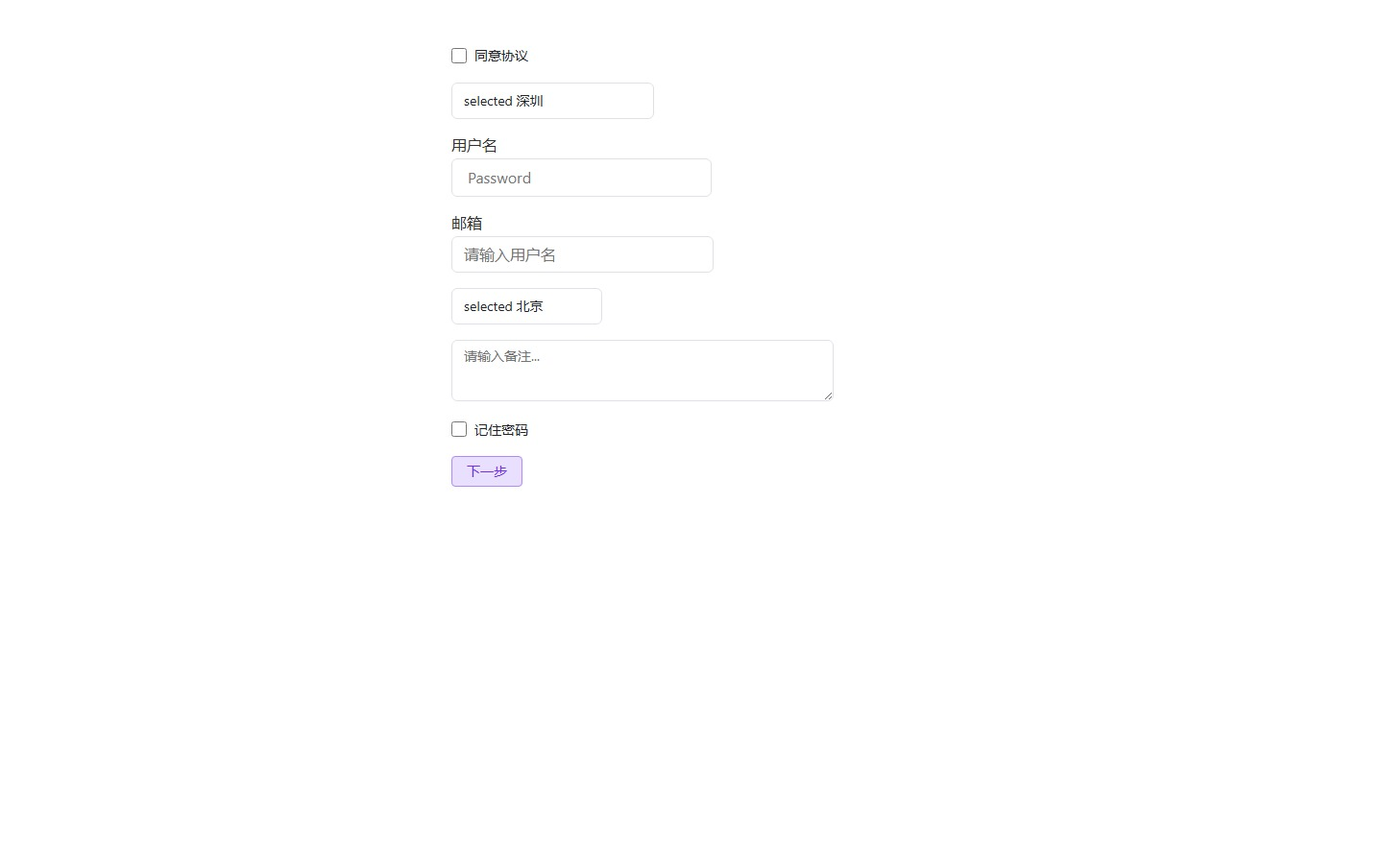button: (451, 456, 522, 487)
checkbox: (451, 421, 467, 437), (451, 48, 467, 63)
icon: (474, 46, 528, 64), (474, 420, 528, 438)
input: (451, 158, 712, 196), (451, 236, 714, 272)
radio: (451, 46, 528, 64), (451, 420, 528, 438)
select: (451, 82, 654, 119), (451, 288, 602, 324)
textarea: (451, 339, 834, 401)
